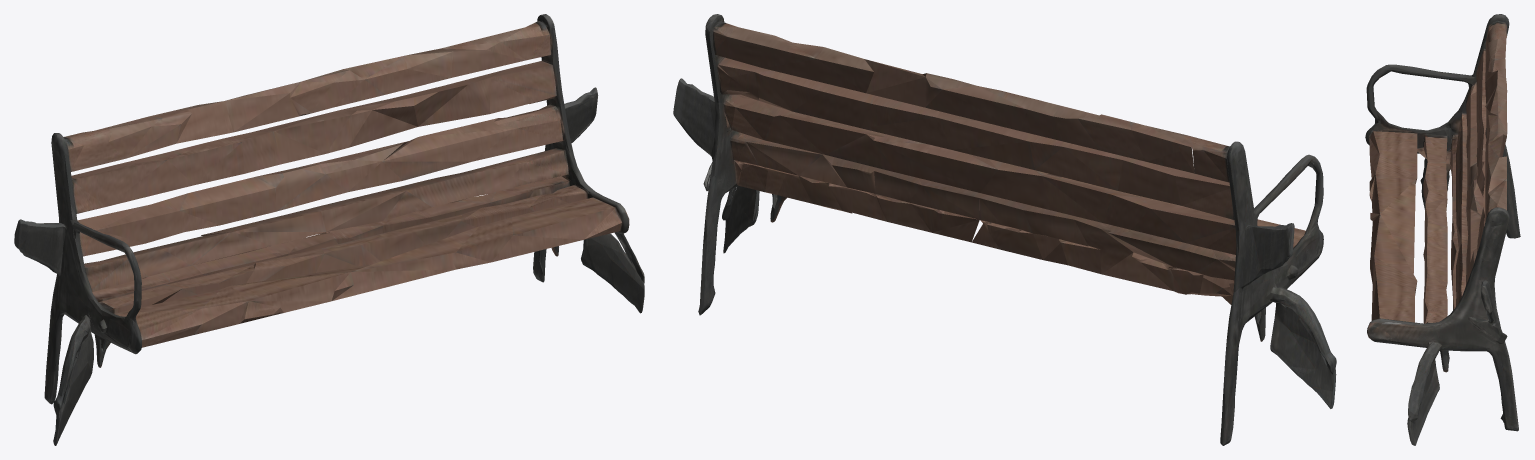
Rendered from promenade-bench.glb.
3 views of the same model, side by side, from view 1: azimuth 30°, elevation 25°; view 2: azimuth 150°, elevation 25°; view 3: azimuth 270°, elevation 25° (orthographic). The views are drawn at different scales.
Parts seen in each view (by area): view 1: Mesh_0; view 2: Mesh_0; view 3: Mesh_0.
Boxes of the visible parts, left/top/right/bottom form: Mesh_0: left=14, top=14, right=644, bottom=445; Mesh_0: left=673, top=14, right=1336, bottom=445; Mesh_0: left=1365, top=14, right=1520, bottom=445.
Size of the model in its own units: 2 by 0.91 by 0.57.
Materials: 1 (1 with a texture image).
